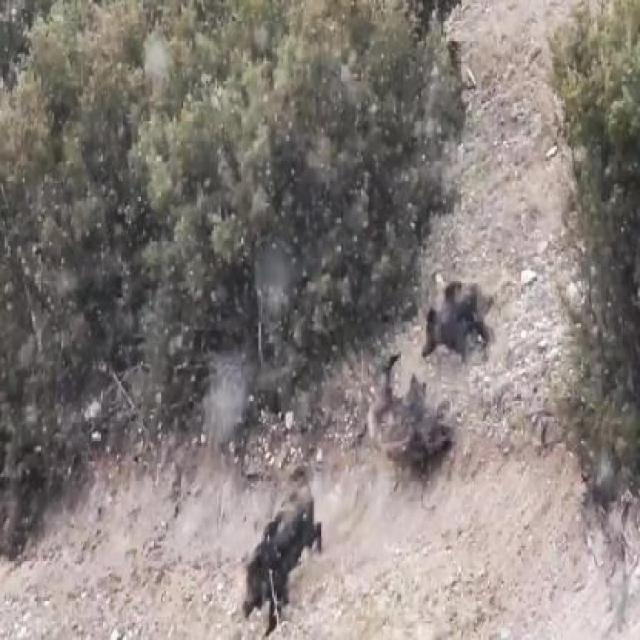pig: (225, 448, 329, 638), (417, 257, 491, 360)
